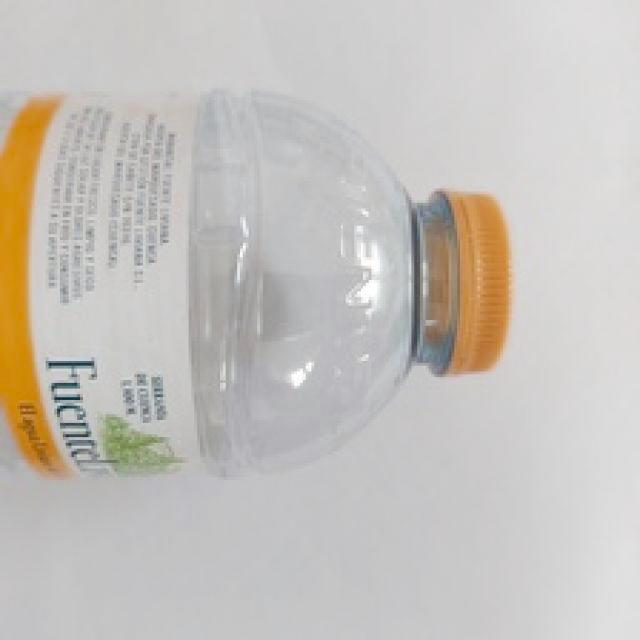bottle: (0, 85, 513, 481)
